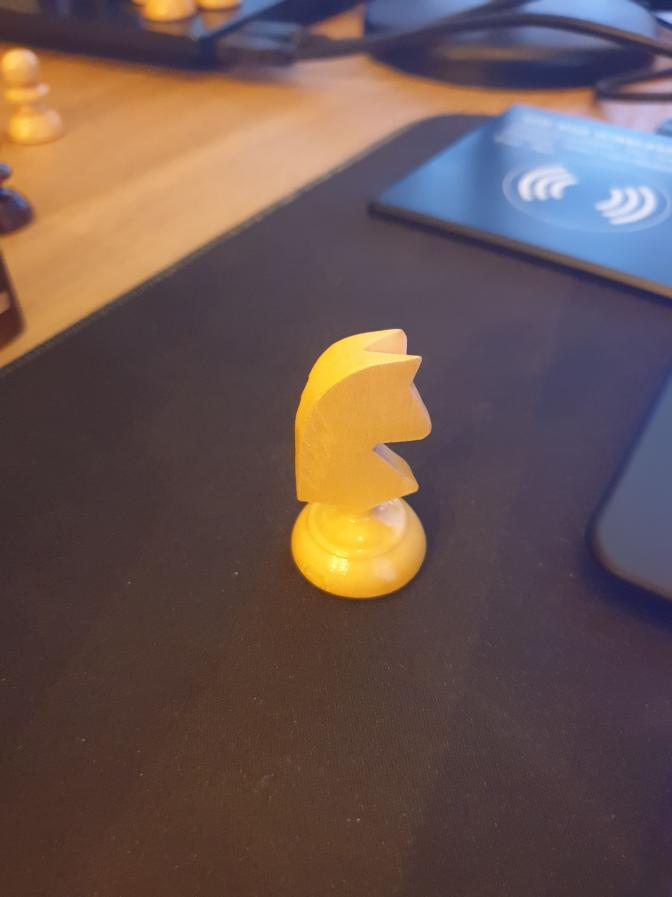wknight: (287, 326, 432, 602)
